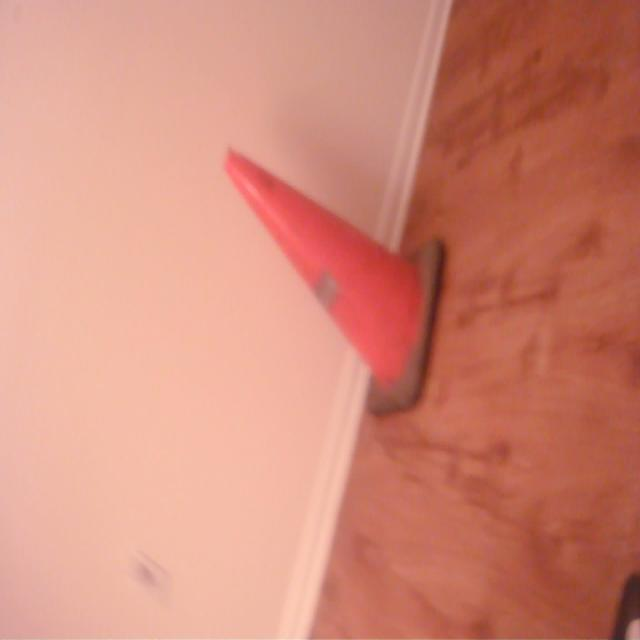traffic cone: (219, 141, 448, 425)
